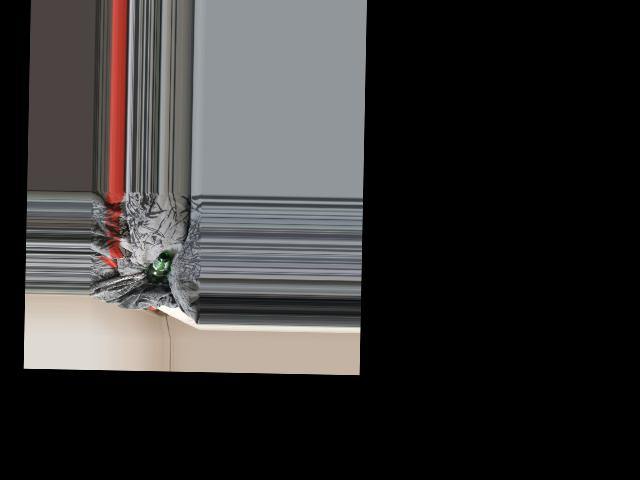beer: (147, 251, 171, 283)
